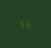nine: (19, 19, 24, 27)
six: (25, 19, 30, 28)
